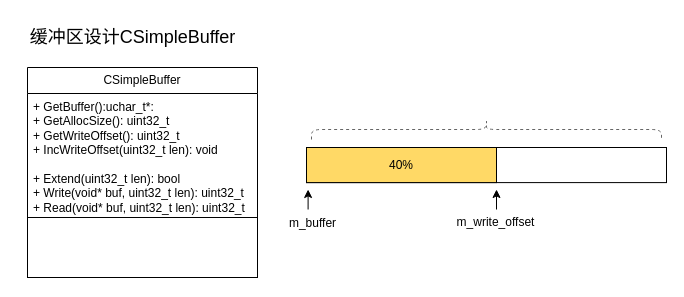
Image size: 684x297. Some labels were removed from this diagram. The shapes that lost their labels are listed below. From the top down, each one's box as (x1, y1, x2, y2) in pixels, then its label:
(310, 118, 662, 140): m_alloc_size
(26, 216, 258, 278): - m_buffer:uchar_t* - m_alloc_size: uint32_t - m_write_offset: uint32_t
